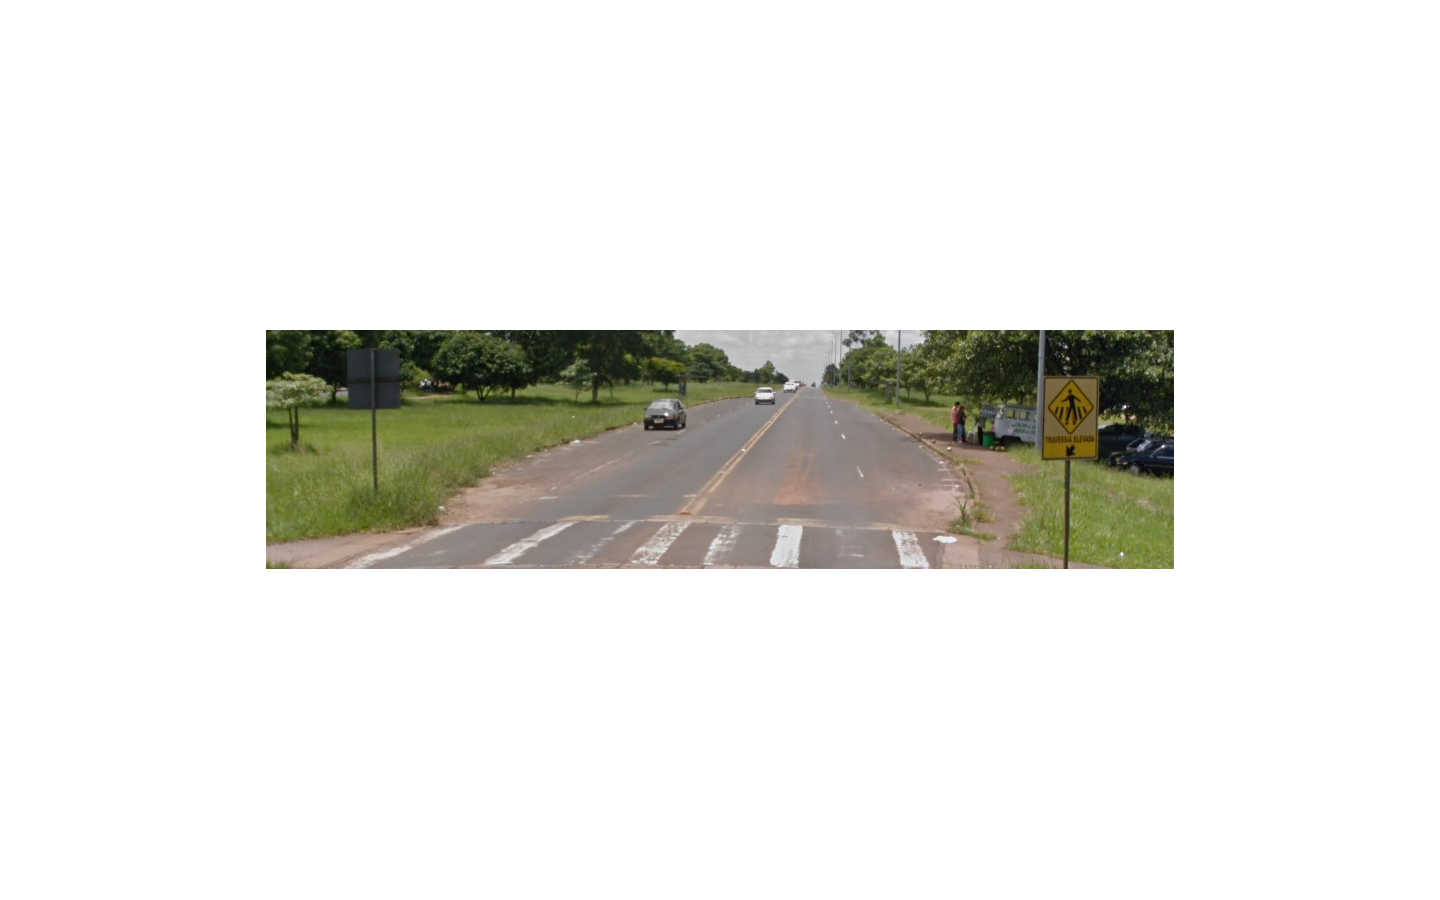telev: (1041, 375, 1099, 460)
